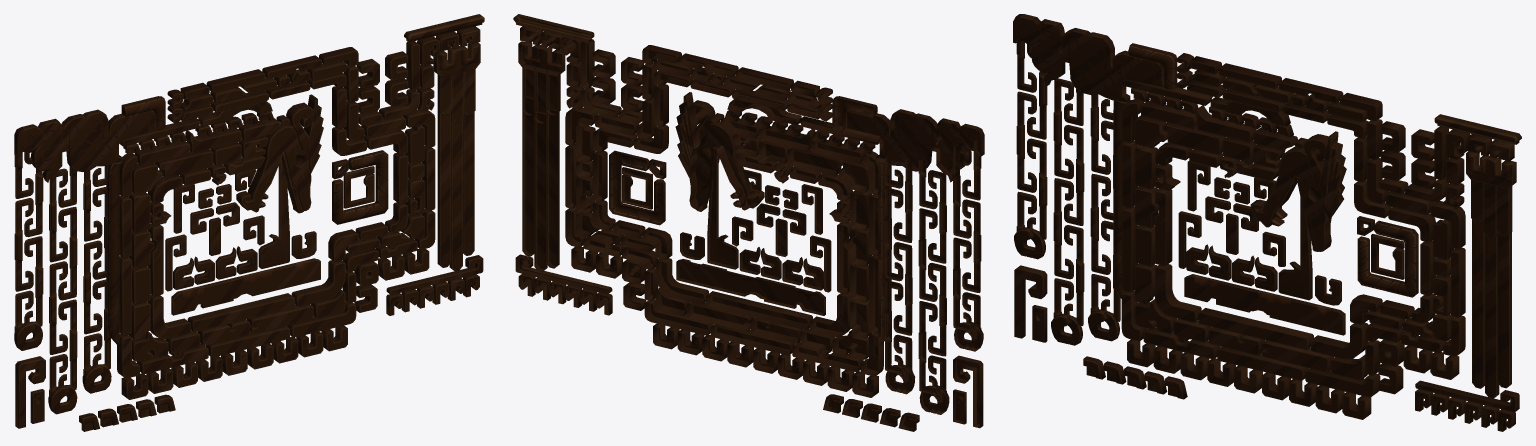
Rendered from quetzaGolden.fbx.
3 renders of one model, left to right at view 1: azimuth 30°, elevation 25°; view 2: azimuth 150°, elevation 25°; view 3: azimuth 330°, elevation 25°, orthographic. The views are drawn at different scales.
Parts seen in each view (by area): view 1: quetzaGolden; view 2: quetzaGolden; view 3: quetzaGolden.
Boxes of the visible parts, x1=… form: quetzaGolden: x1=14, y1=14, x2=484, y2=431; quetzaGolden: x1=513, y1=14, x2=984, y2=431; quetzaGolden: x1=1013, y1=14, x2=1521, y2=431.
Size of the model in its own units: 39.6 by 25.8 by 0.9.
